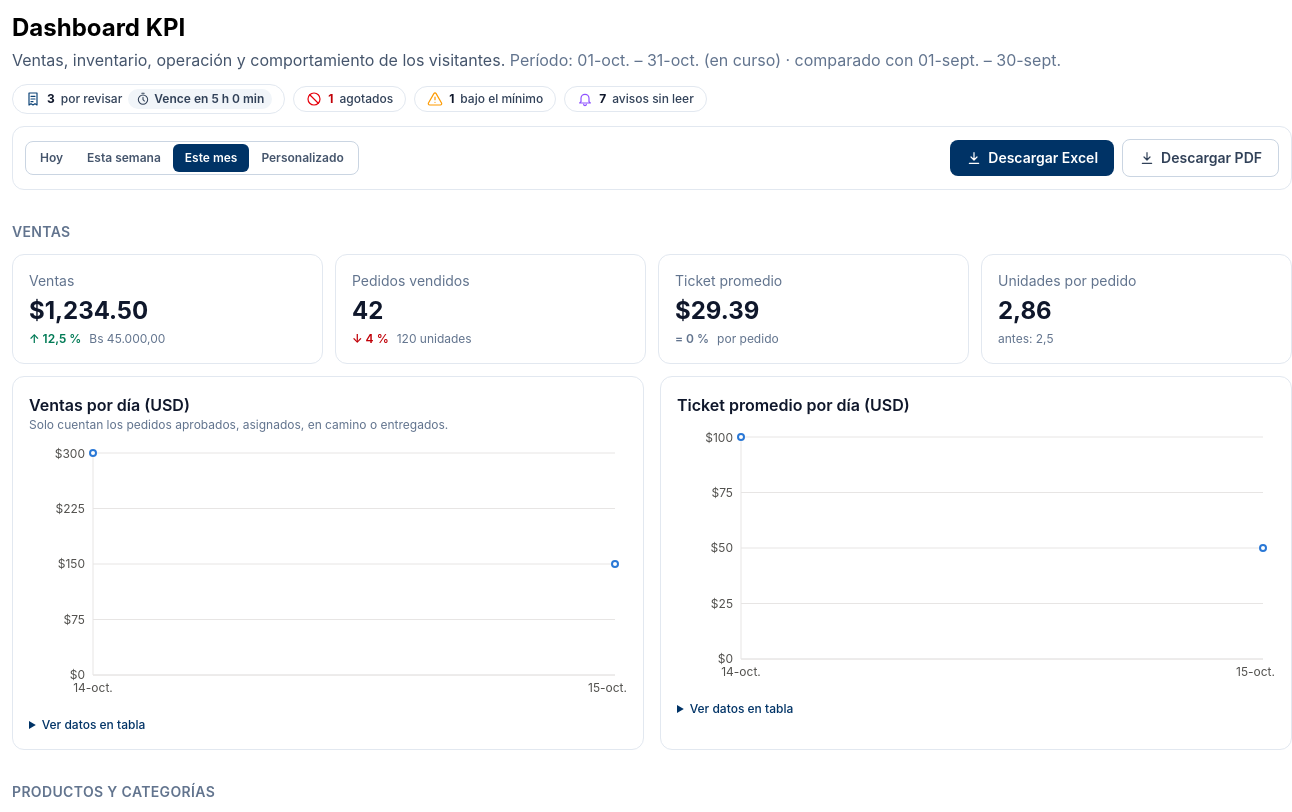
Test case: PowerBIDashboard: período › un rango invertido se marca como inválido, no se consulta y no se puede descargar
The width and height of the screenshot is (1292, 812).
Check: the text "$1,234.50" is shown, box [29,296,148,325]
Step 1. Click the button "Personalizado" → (303, 158), box [249,144,356,172]
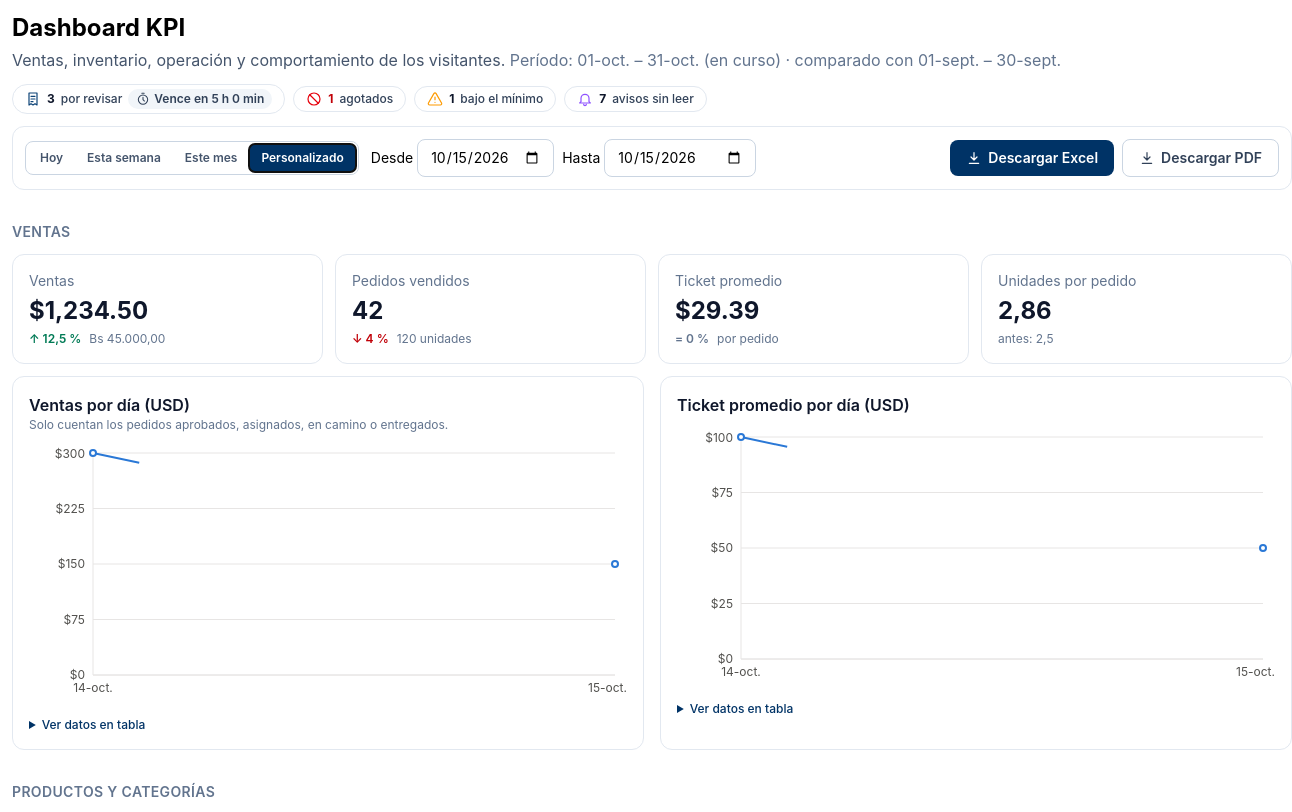
Step 2. Type "2026-10-20" into the date field labelled "Desde" → (486, 158), box [417,139,554,177]
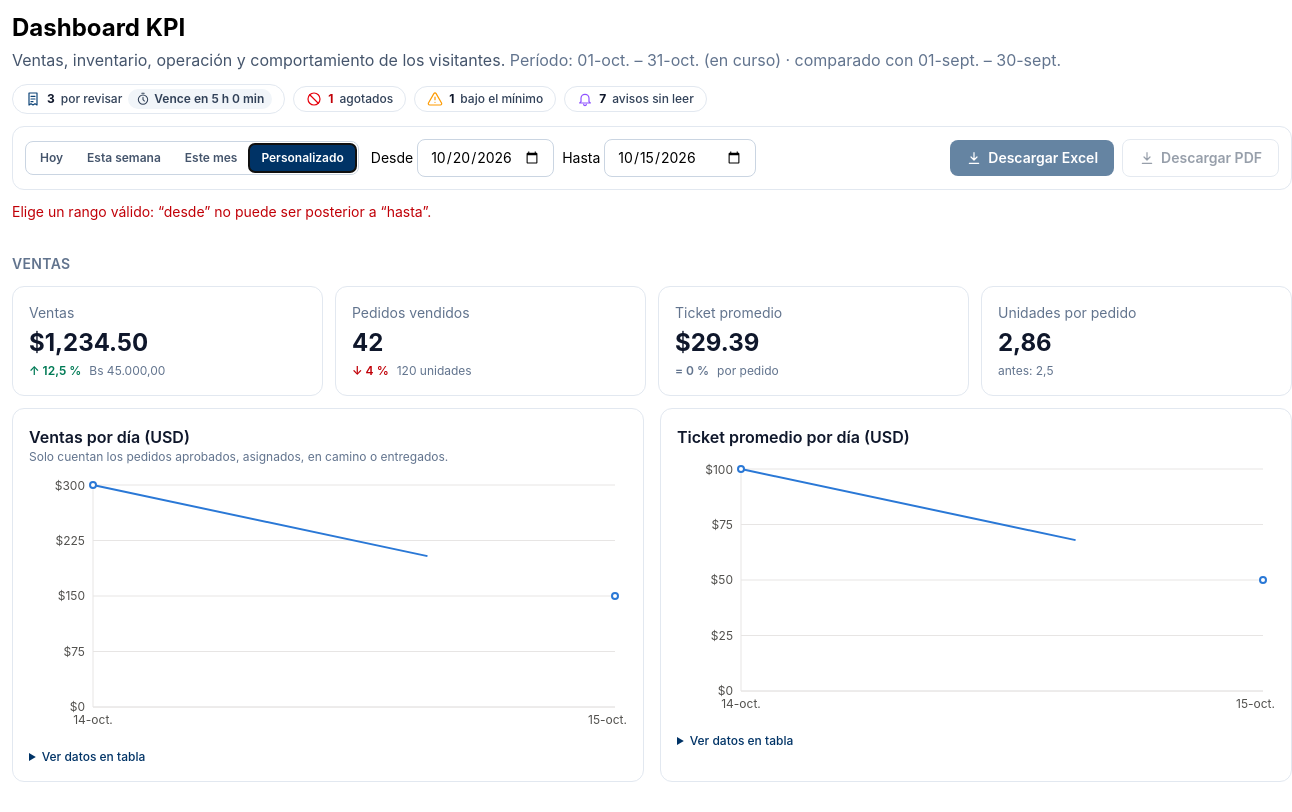
Check: the text "Elige un rango válido" is shown, box [12,203,431,220]
Check: the button "Descargar Excel" is disabled, box [950,140,1114,176]
